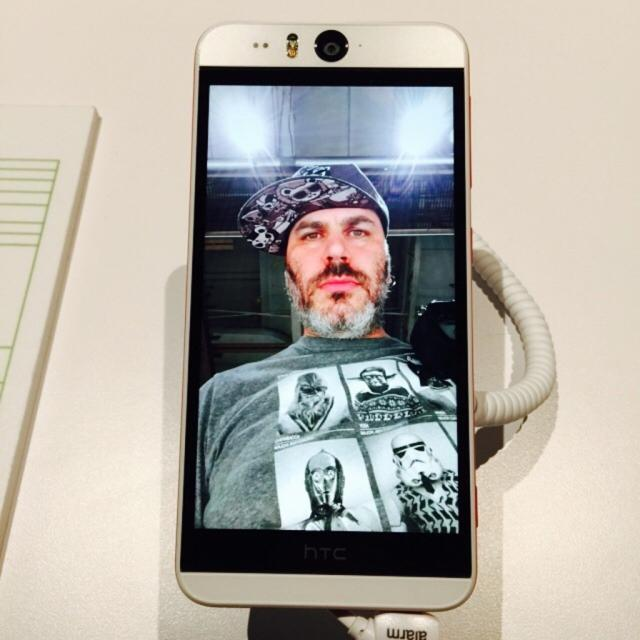Mobile-phone: (171, 20, 535, 617)
